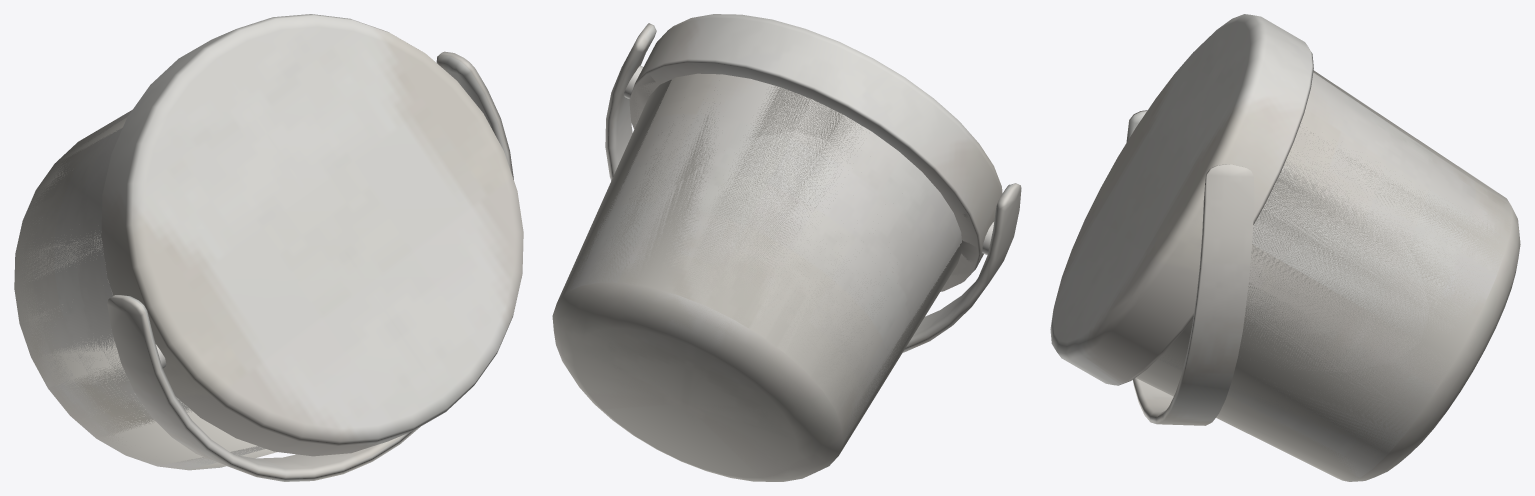
File: ref_gtplaydough.fbx
3 renders of one model, left to right at view 1: azimuth 30°, elevation 25°; view 2: azimuth 150°, elevation 25°; view 3: azimuth 270°, elevation 25°, orthographic. The views are drawn at different scales.
Visible parts, largest first — view 1: ref_gtplaydough; view 2: ref_gtplaydough; view 3: ref_gtplaydough.
Boxes of the visible parts, x1=… form: ref_gtplaydough: x1=14, y1=14, x2=523, y2=481; ref_gtplaydough: x1=552, y1=14, x2=1021, y2=481; ref_gtplaydough: x1=1050, y1=14, x2=1520, y2=481.
Bounding box in the file's own units: 92.33 × 100 × 99.24.
